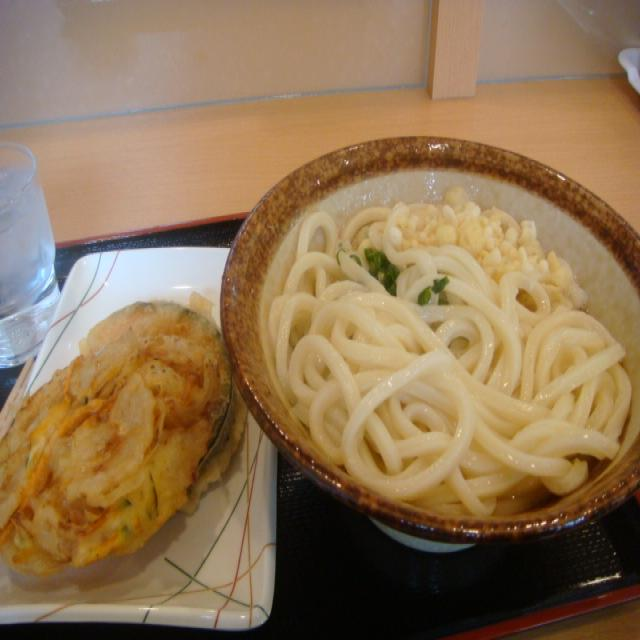面条主食: (233, 133, 638, 550)
